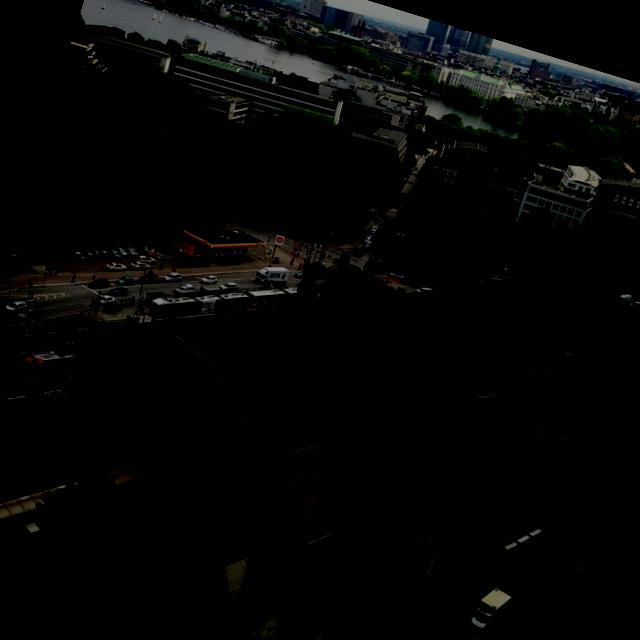Vehicle: (0, 110, 640, 640), (147, 282, 206, 330), (466, 582, 513, 638), (245, 279, 288, 315), (514, 570, 550, 606), (253, 260, 290, 292), (558, 555, 581, 583), (103, 259, 128, 276), (3, 246, 24, 266), (63, 245, 87, 262), (160, 268, 182, 286), (173, 280, 196, 297), (129, 258, 151, 274), (92, 244, 114, 260), (198, 271, 218, 288), (115, 273, 136, 289), (108, 282, 129, 298), (98, 292, 116, 310), (218, 279, 238, 294)
